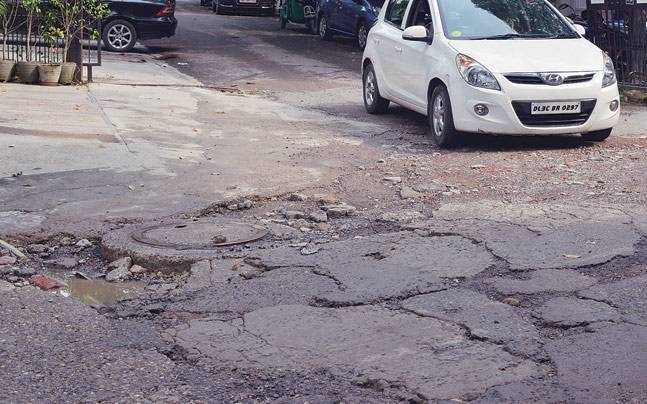pothole: (29, 246, 161, 331)
